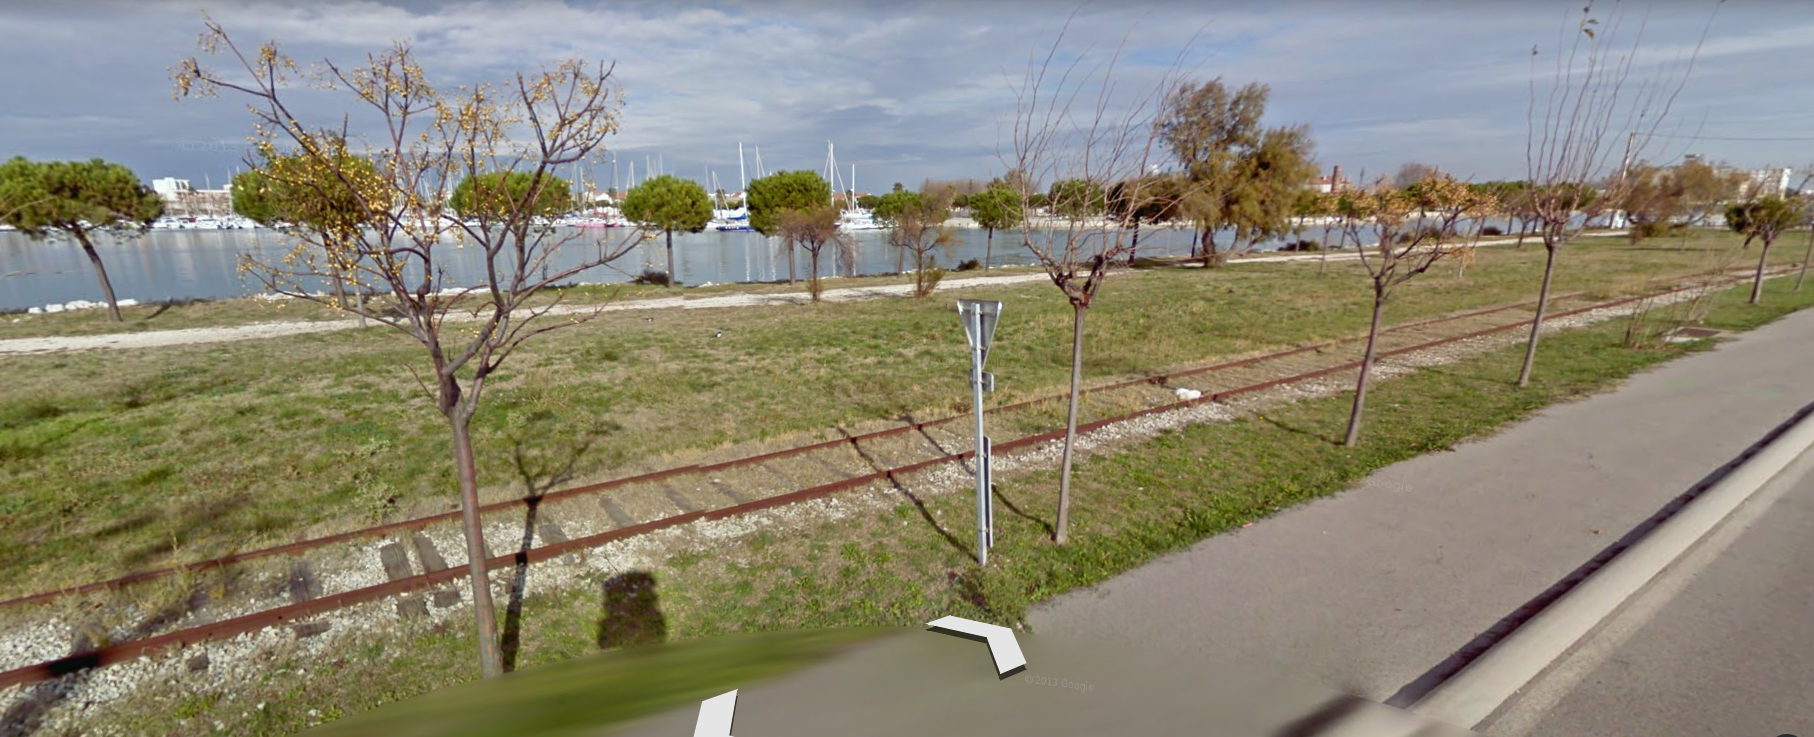Tree: (186, 29, 637, 684), (1162, 80, 1337, 286), (3, 149, 168, 342), (233, 137, 388, 323), (450, 165, 578, 314), (742, 165, 850, 314), (863, 187, 964, 304), (625, 171, 721, 282), (1723, 194, 1807, 319), (979, 177, 1037, 265)
